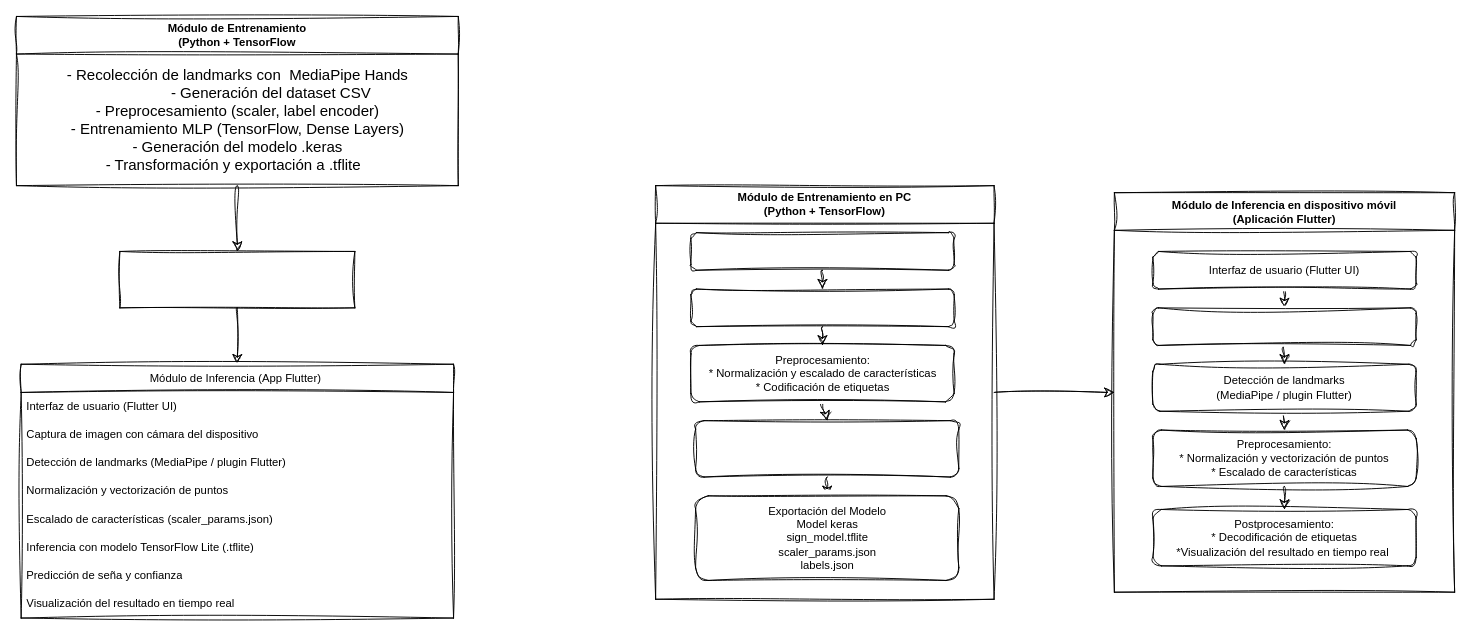
Image size: 1471x635. Some labels were removed from this diagram. Here are the shapes that lost their labels. From the top down, the centre of each, then its label:
At [822,251]: "Captura de datos (MediaPipe Hands)".
At [237,279]: "Archivos exportados sign_model.tflite scaler_params.json labels.json".
At [822,307]: "Generación de dataset".
At [1284,326]: "Modelo de captura".
At [827,448]: "Entrenamiento del modelo MLP (TensorFlow, capas densas)".
